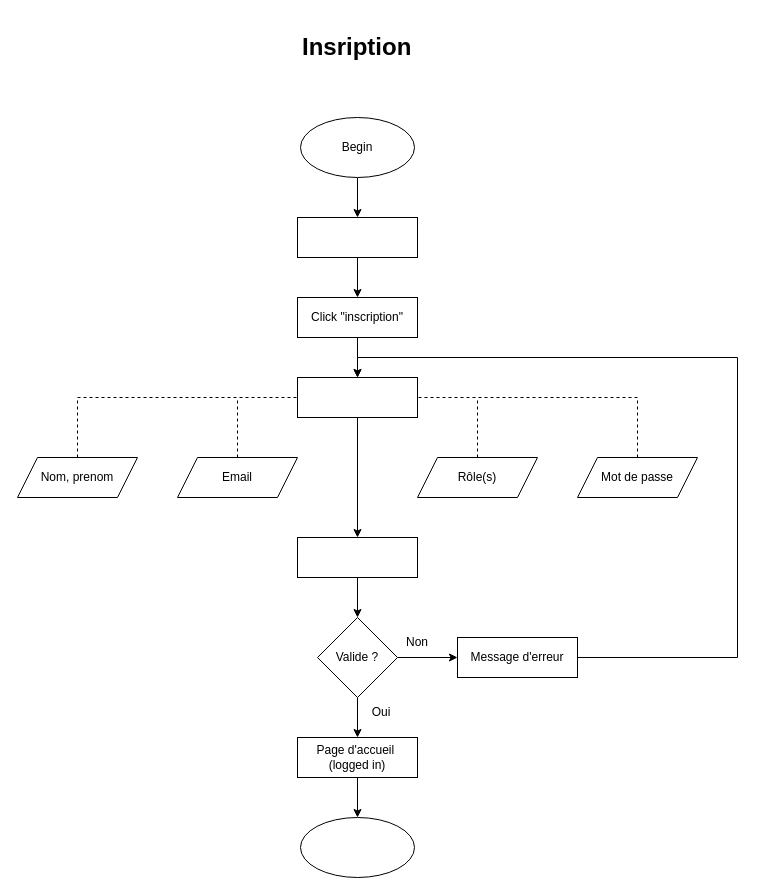
Image size: 763x895. Some labels were removed from this diagram. Each missing label, with the centre of its shape:
Afficher un formulaire: point 357,397
End: point 357,847
Page accueil (logged out): point 357,237
Valider formulaire: point 357,557
